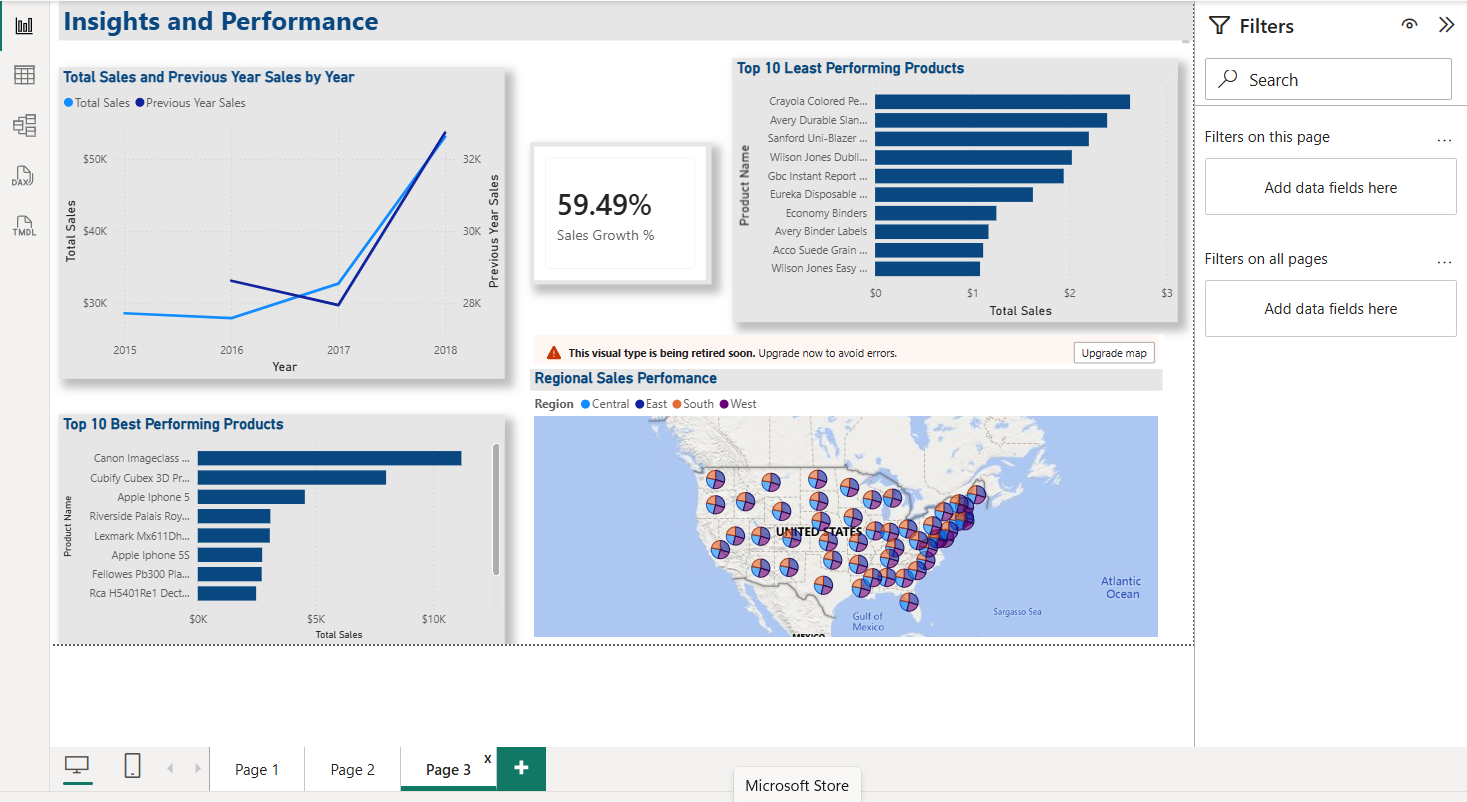

What the dashboard file says about the page in this screenshot:
{"tool":"powerbi","page":{"name":"Page 3","canvas":[1280,720],"ordinal":2},"visuals":[{"type":"textbox","title":"Insights and Performance","box":[9.8,0,1270.5,52.6],"z":0},{"type":"lineChart","fields":{"Category":["Dim_Date.Date.Variation.Date Hierarchy.Year","Dim_Date.Date.Variation.Date Hierarchy.Quarter","Dim_Date.Date.Variation.Date Hierarchy.Month","Dim_Date.Date.Variation.Date Hierarchy.Day"],"Y":["Fact_Orders.Total Sales"],"Y2":["Fact_Orders.Previous Year Sales"]},"box":[9.8,74.2,499.5,348.4],"z":1000},{"type":"clusteredBarChart","title":"Top 10 Best Performing Products","fields":{"Category":["Dim_Products.Product Name"],"Y":["Fact_Orders.Total Sales"]},"box":[10,463,499,257],"z":2000},{"type":"clusteredBarChart","title":"Top 10 Least Performing Products","fields":{"Category":["Dim_Products.Product Name"],"Y":["Fact_Orders.Total Sales"]},"box":[764,64.4,498.1,295.2],"z":3000},{"type":"cardVisual","fields":{"Data":["Fact_Orders.Sales Growth %"]},"box":[537.3,158.1,202.9,159.5],"z":4000},{"type":"map","title":"Regional Sales Perfomance","fields":{"Category":["Dim_Location.State"],"Size":["Fact_Orders.Total Sales"],"Series":["Fact_Orders.Region"]},"box":[537.3,373.6,708,337.2],"z":5000}]}

Visuals, with their boxes on the page's 1280x720 design canvas (x1, y1, x2, y2). These are canvas units, not pixel positions in the 1467x802 screenshot, which may show the page scaled, cropped or inside an application window:
"Insights and Performance" textbox: crop(10, 0, 1280, 53)
lineChart - Dim_Date.Date.Variation.Date Hierarchy.Year x Dim_Date.Date.Variation.Date Hierarchy.Quarter: crop(10, 74, 509, 423)
"Top 10 Best Performing Products" clusteredBarChart: crop(10, 463, 509, 720)
"Top 10 Least Performing Products" clusteredBarChart: crop(764, 64, 1262, 360)
cardVisual - Fact_Orders.Sales Growth %: crop(537, 158, 740, 318)
"Regional Sales Perfomance" map: crop(537, 374, 1245, 711)
